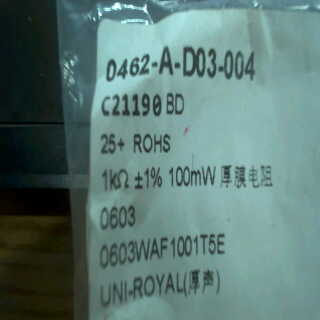1kR: (92, 162, 133, 196)
